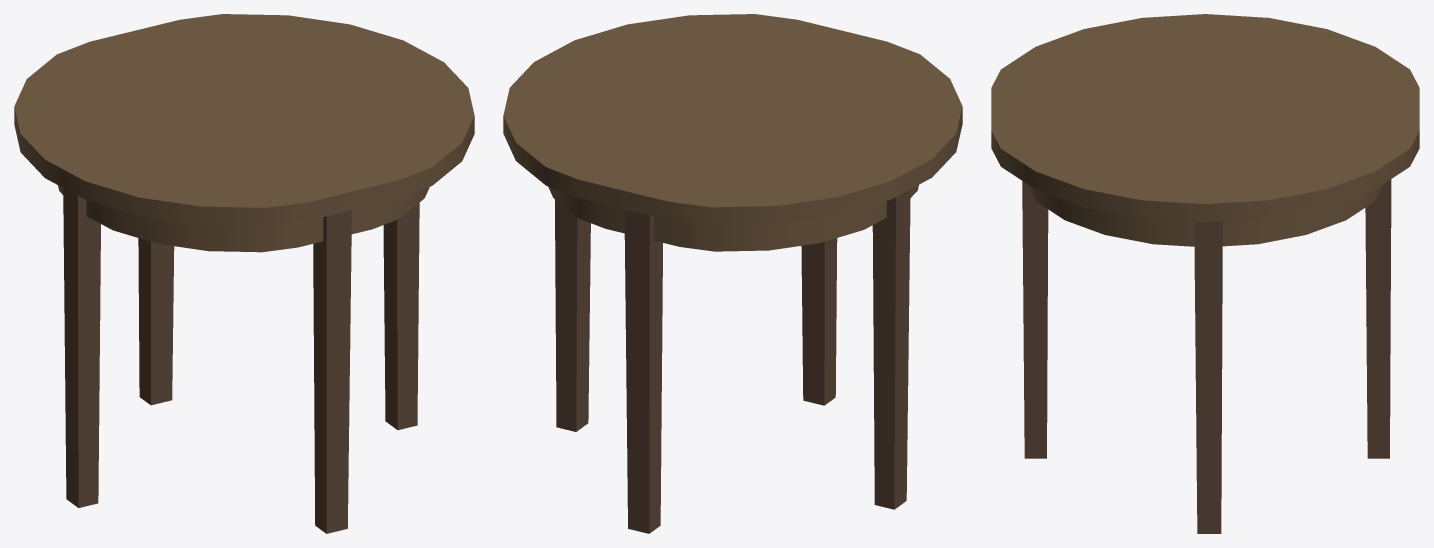
File: Table_Round.FBX
The picture shows the model from 3 angles, left to right: view 1: azimuth 30°, elevation 25°; view 2: azimuth 150°, elevation 25°; view 3: azimuth 270°, elevation 25°; orthographic projection. The views are drawn at different scales.
Visible parts, largest first — view 1: Table_Round_01; view 2: Table_Round_01; view 3: Table_Round_01.
Boxes of the visible parts, x1,y1,x2,y2 form: Table_Round_01: [14, 14, 474, 533]; Table_Round_01: [503, 14, 962, 533]; Table_Round_01: [991, 14, 1419, 533].
Bounding box in the file's own units: 229 × 193 × 217.
